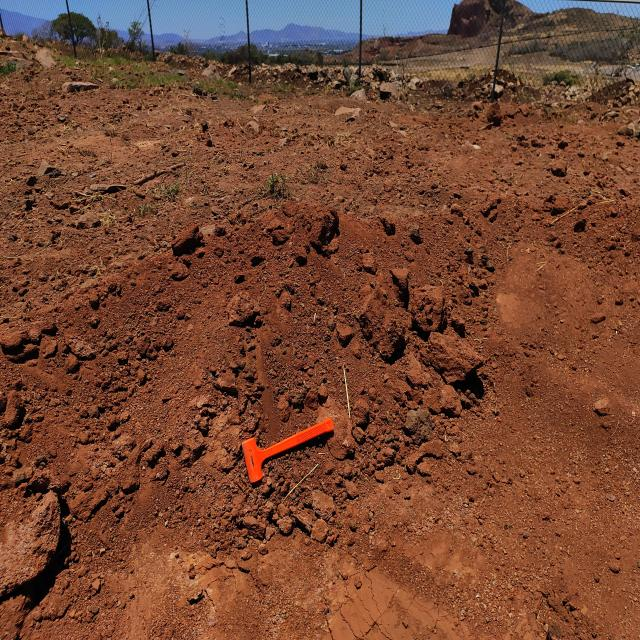Orange_hammer: (240, 415, 334, 484)
